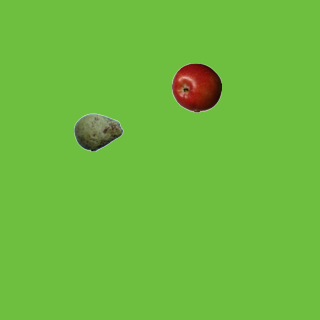Apple Braeburn: (171, 62, 221, 112)
Pear Stone: (73, 107, 123, 157)
